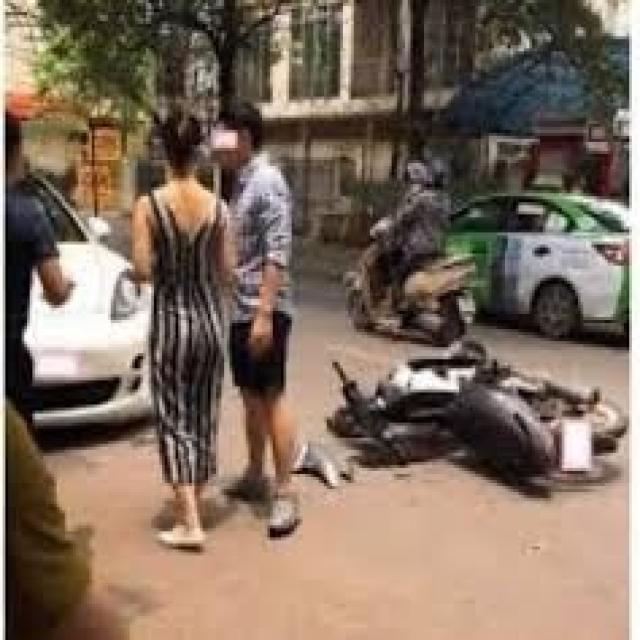accident: (309, 306, 631, 525)
